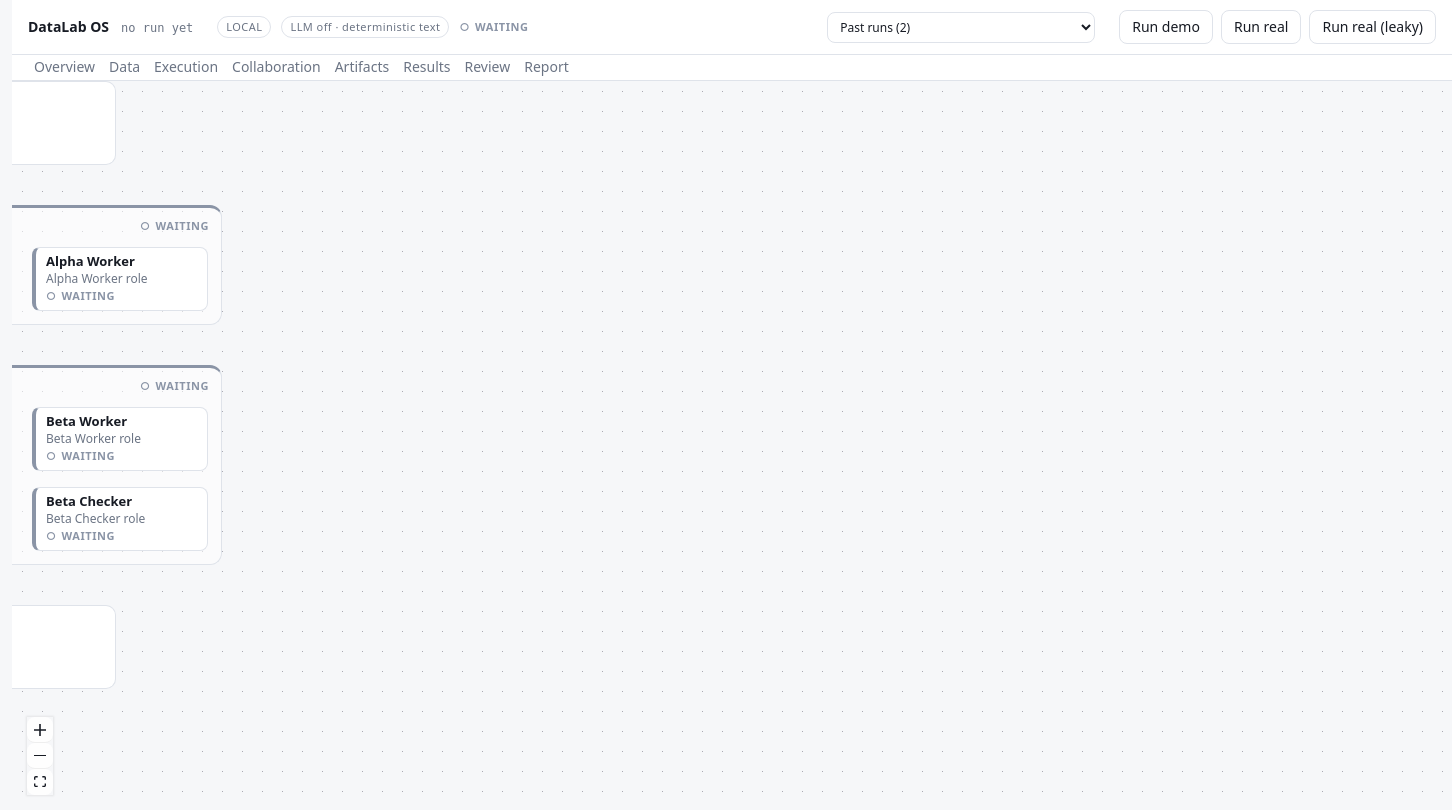
Scenario: history interaction › preserves newest-first order, labels and tooltip; opens, replays, closes and refreshes
Expected: the button "Run demo" is enabled, [1119,10,1213,44]
Step 1. Select "#ab12 · demo · completed · —" in the dropdown named "Past runs" → (961, 27), box [827,12,1095,43]
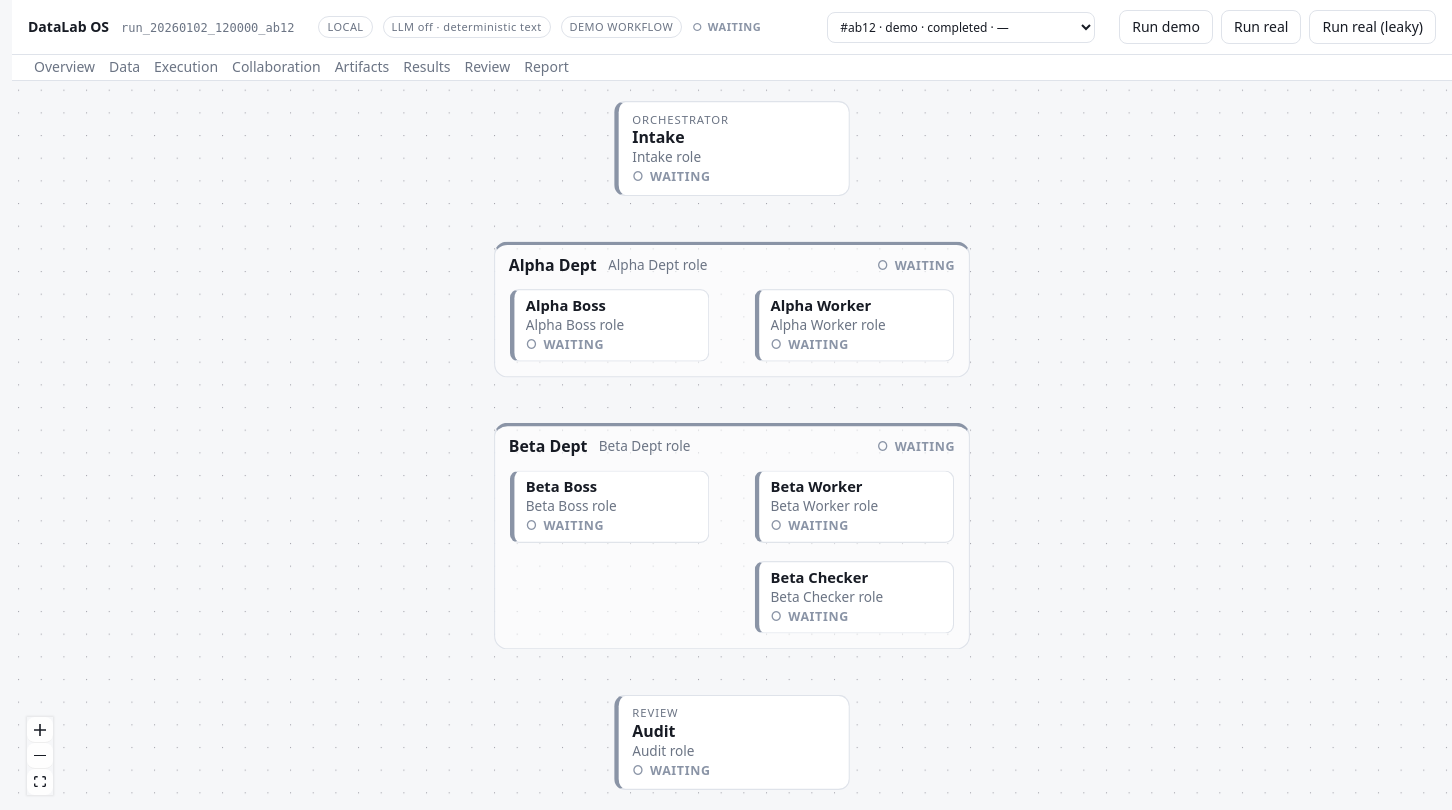
Step 2. Select "#cd34 · real sales.csv · error · Jan 1, 12:00" in the dropdown named "Past runs" → (961, 27), box [827,12,1095,43]
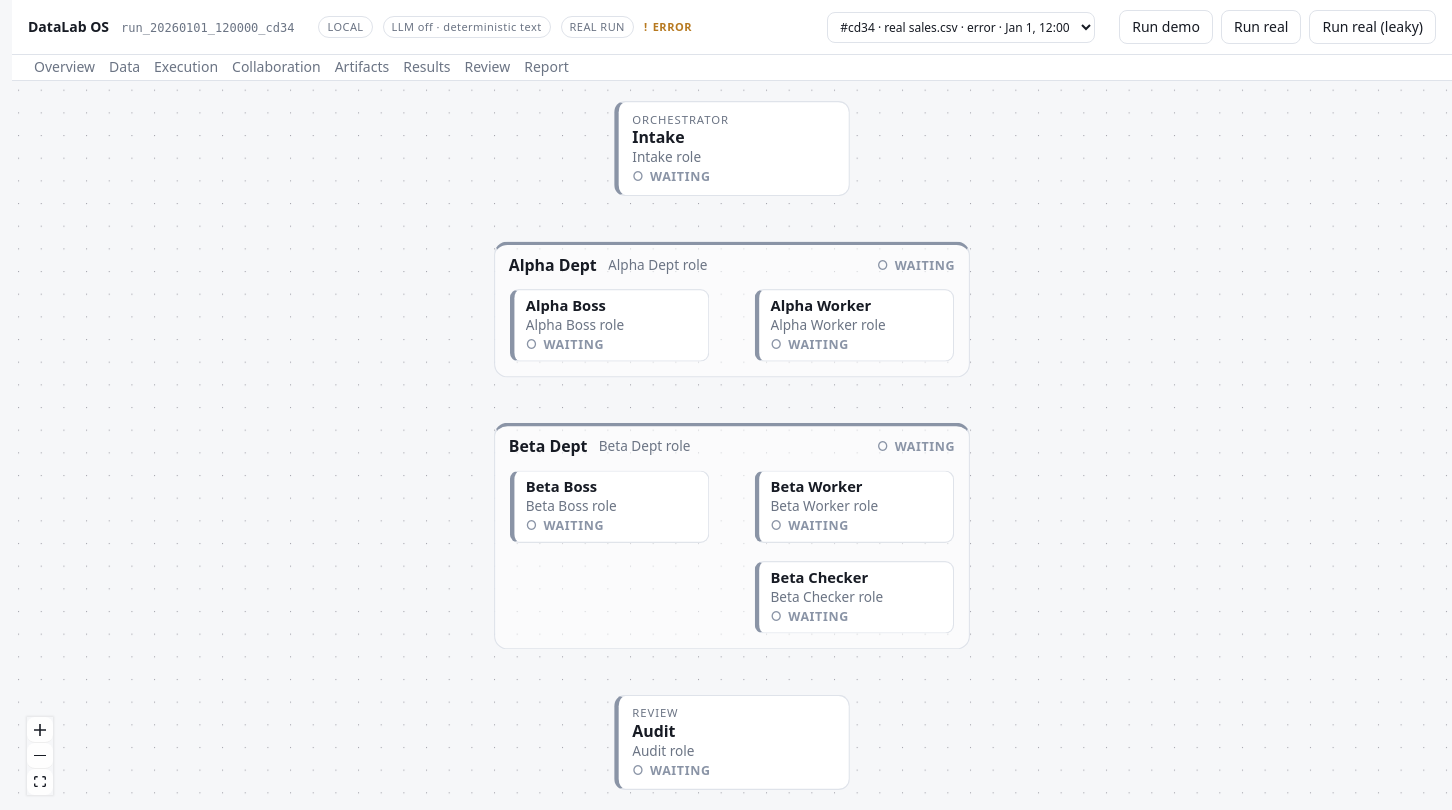
Now the text "ERROR" is shown, box [653,19,692,34]
